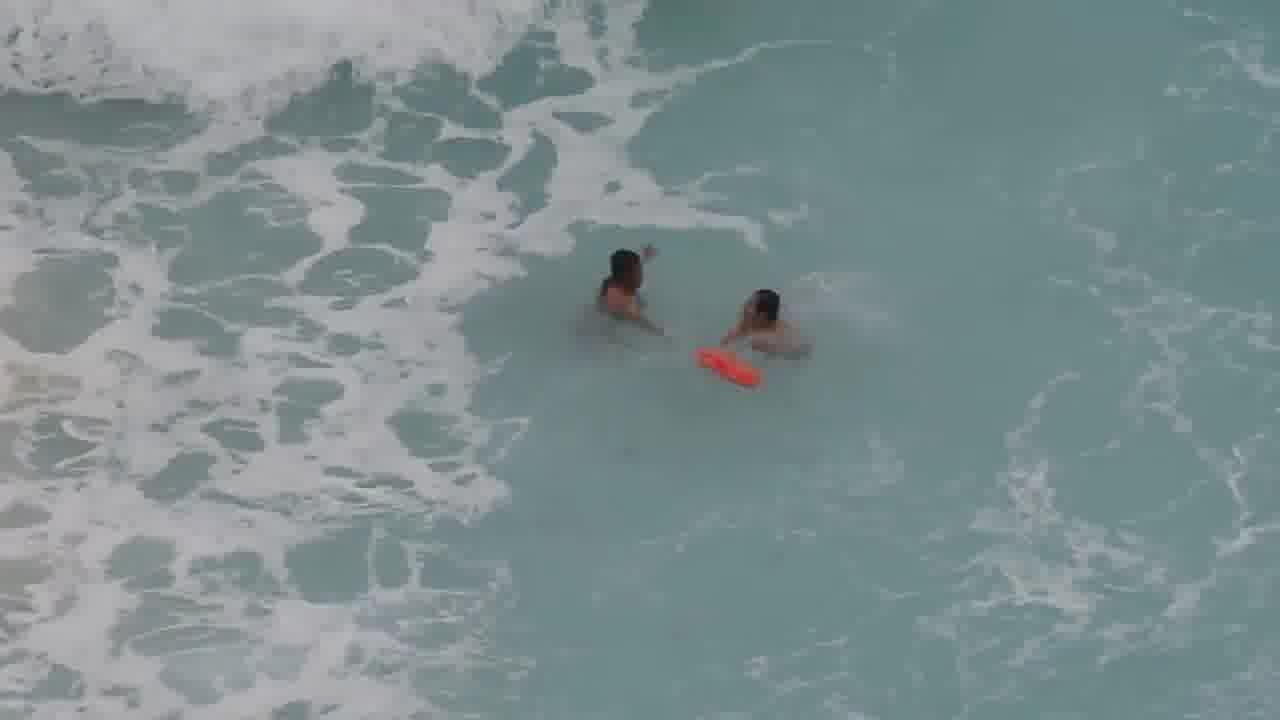human: (584, 241, 669, 340), (717, 279, 811, 350)
